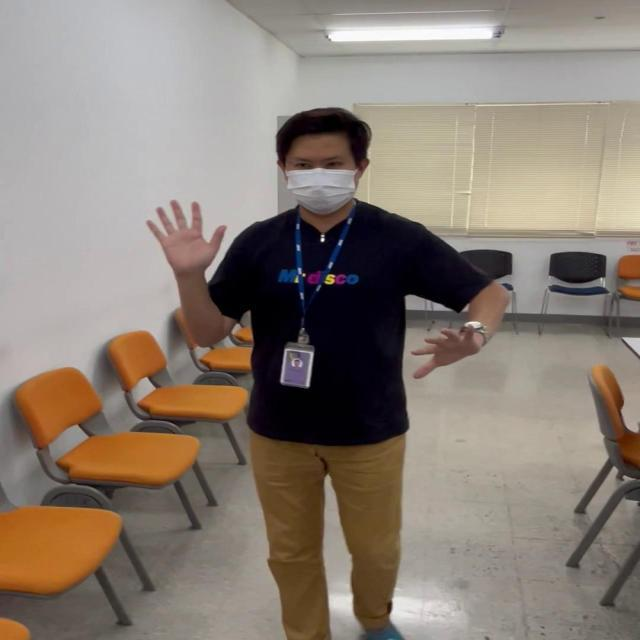bare_hand: (145, 194, 228, 270), (406, 316, 488, 383)
